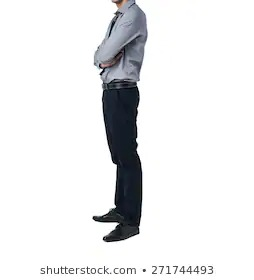F_dress pants: (99, 79, 149, 232)
